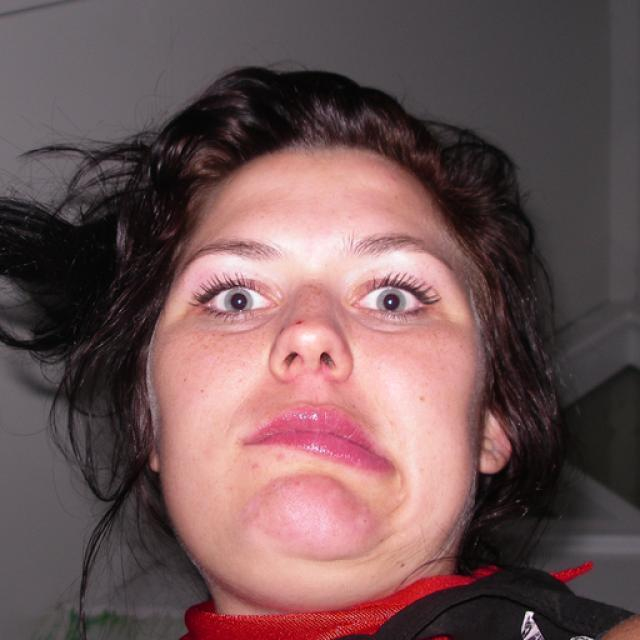disgust: (148, 144, 484, 576)
